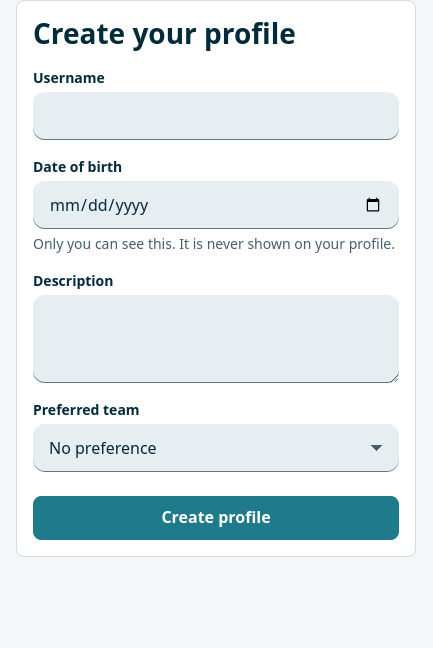
Test: ProfileSetupPage in the narrow form card › renders a server error through InlineAlert (criterion 2)
Type "raptorsfan" into the field labelled "Username" at (216, 116), box [33,92,399,140]
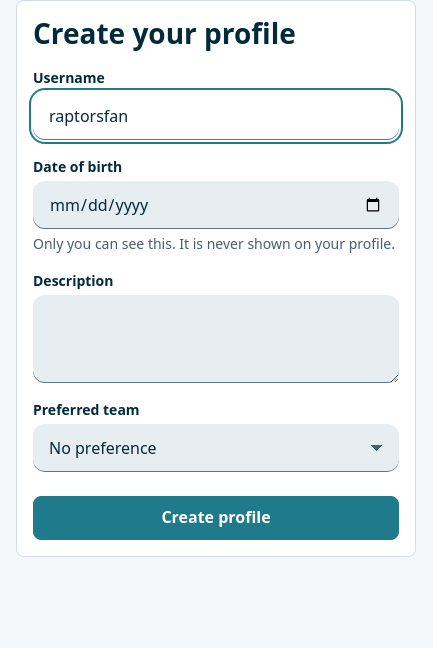
Click the button "Create profile" at (216, 518), box [33,496,399,540]
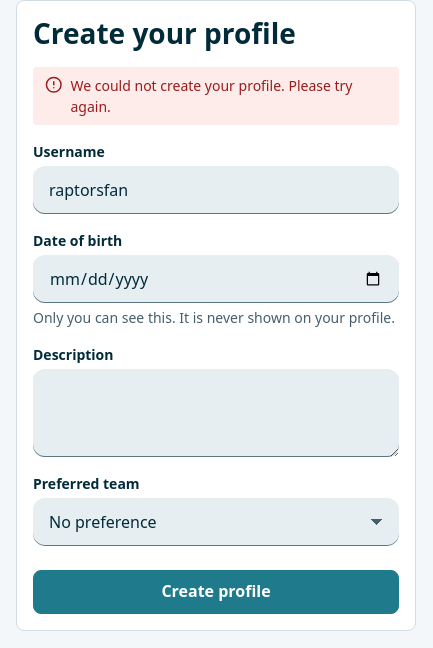
Now the message reads "We could not create your profile. Please try again.", box [70,76,352,116]
